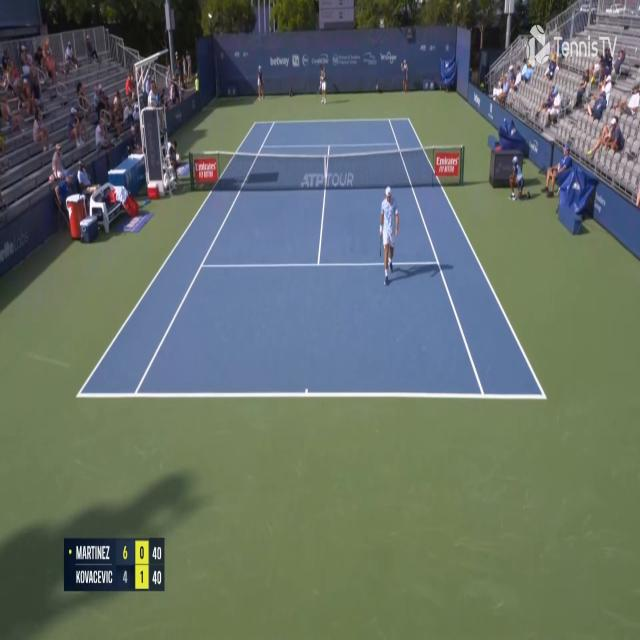tennis-player: (378, 183, 400, 286), (318, 63, 328, 106)
